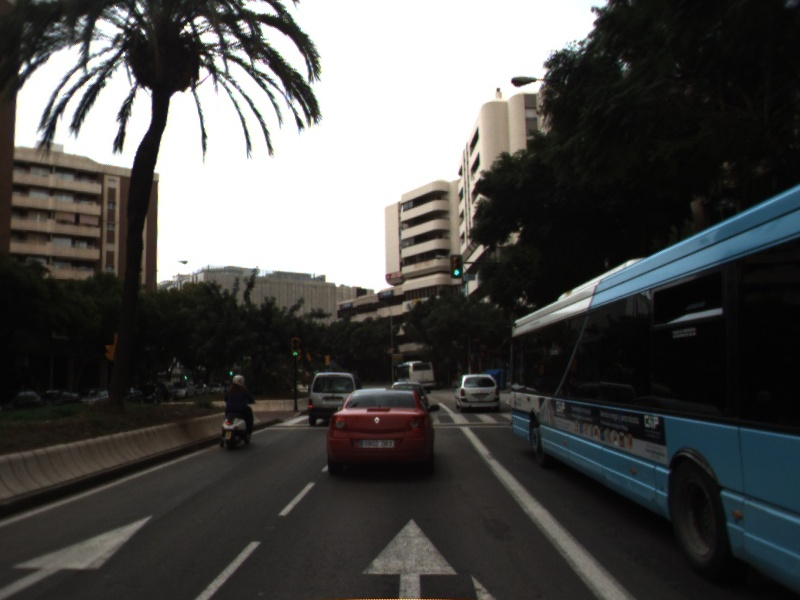STRAIGHT: (1, 511, 158, 600), (357, 514, 463, 600)
